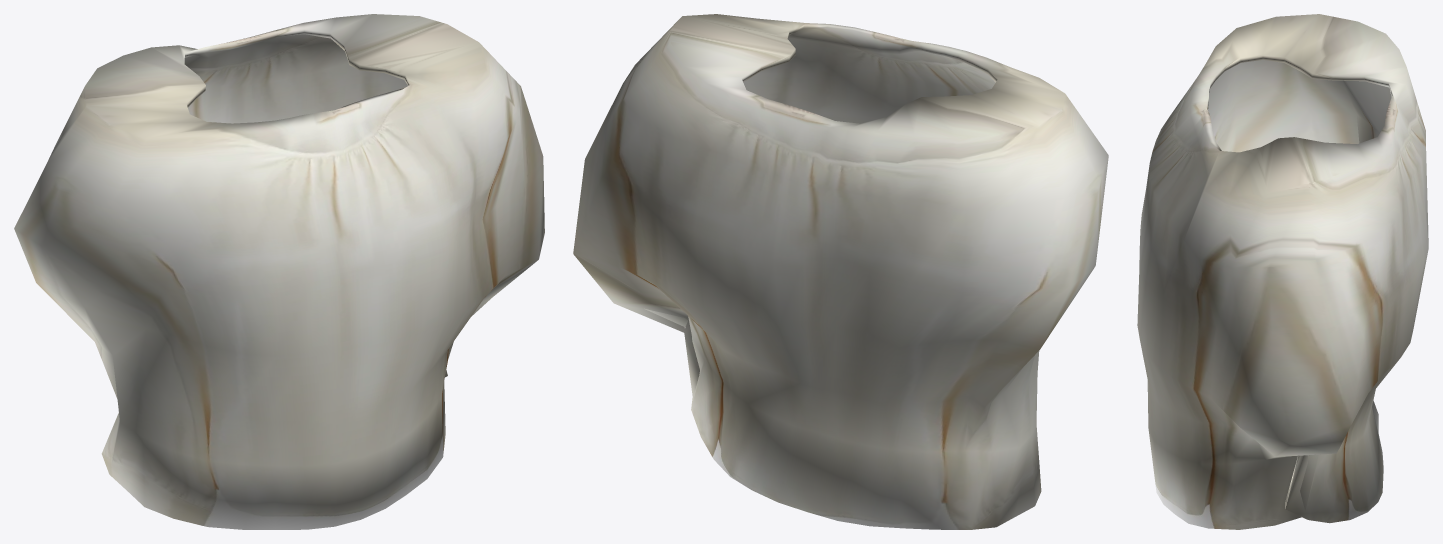
The picture shows the model from 3 angles, left to right: view 1: azimuth 30°, elevation 25°; view 2: azimuth 150°, elevation 25°; view 3: azimuth 270°, elevation 25°; orthographic projection. The views are drawn at different scales.
Visible parts, largest first — view 1: garment; view 2: garment; view 3: garment.
Part boxes in pixels (x1,y1,x2,y2): garment: [14, 14, 544, 529]; garment: [573, 14, 1108, 529]; garment: [1137, 14, 1428, 529].
Bounding box in the file's own units: 0.5961 × 0.4608 × 0.3115.
Materials: 1 (1 with a texture image).
